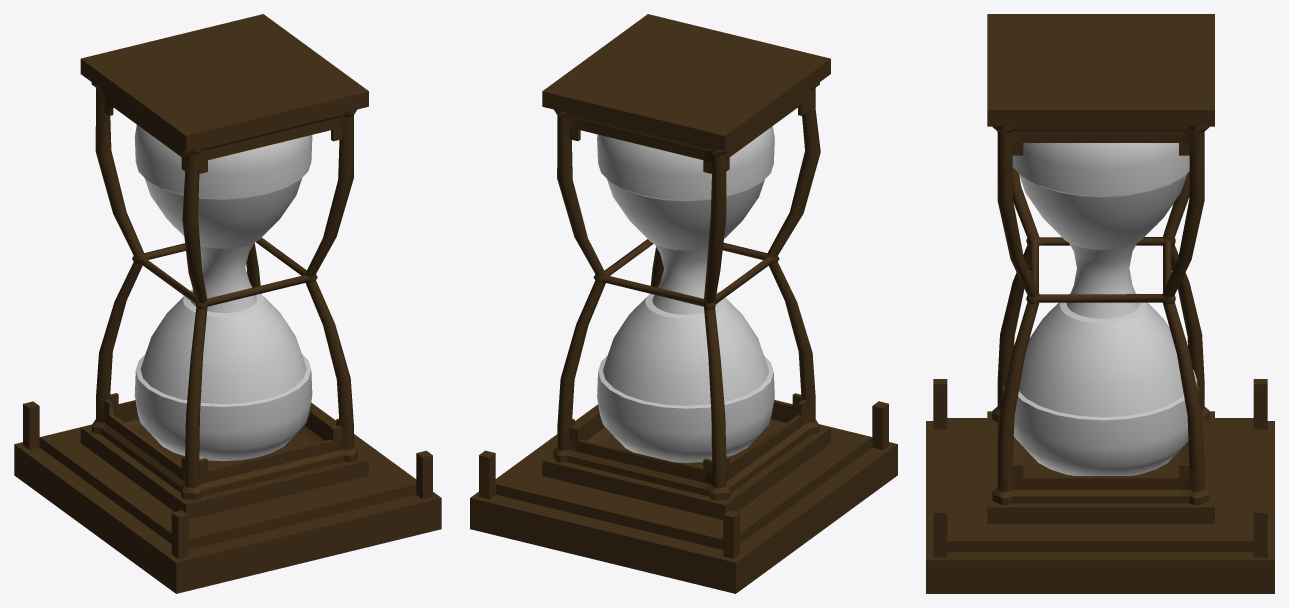
File: SM_TimeTurret.FBX
The picture shows the model from 3 angles, left to right: view 1: azimuth 30°, elevation 25°; view 2: azimuth 150°, elevation 25°; view 3: azimuth 270°, elevation 25°; orthographic projection. The views are drawn at different scales.
Visible parts, largest first — view 1: HourGlass, HourglassStand; view 2: HourGlass, HourglassStand; view 3: HourGlass, HourglassStand.
Part boxes in pixels (x1,y1,x2,y2): HourGlass: (80, 14, 368, 519); HourglassStand: (14, 401, 441, 593); HourGlass: (542, 14, 830, 519); HourglassStand: (470, 401, 897, 593); HourGlass: (987, 14, 1214, 523); HourglassStand: (926, 379, 1274, 593).
Bounding box in the file's own units: 52.71 × 81.13 × 55.71.
